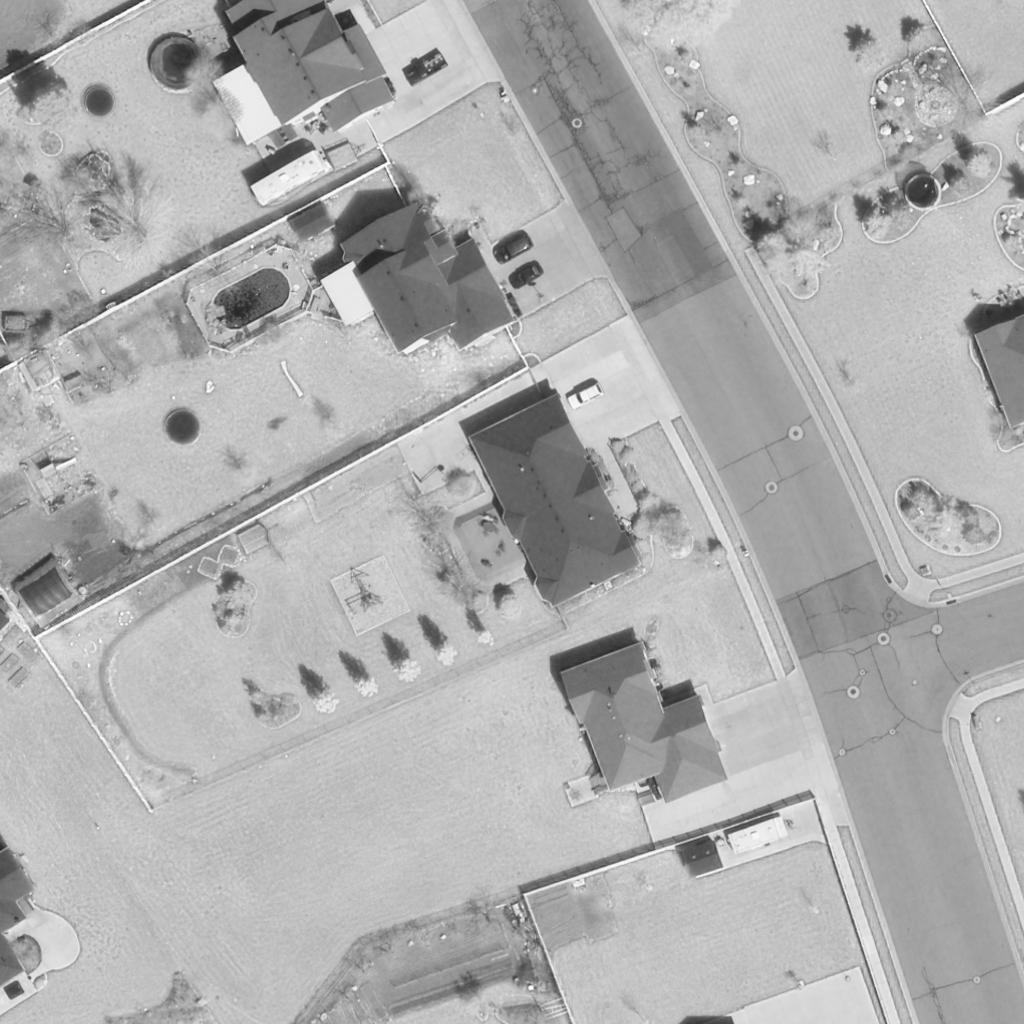vehicle: (248, 152, 330, 208), (724, 816, 790, 856), (404, 53, 448, 87), (491, 233, 535, 265), (566, 384, 606, 410), (510, 262, 544, 292)
